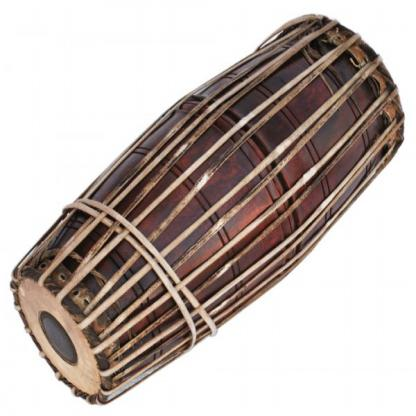Mridangam: (15, 11, 407, 400)
